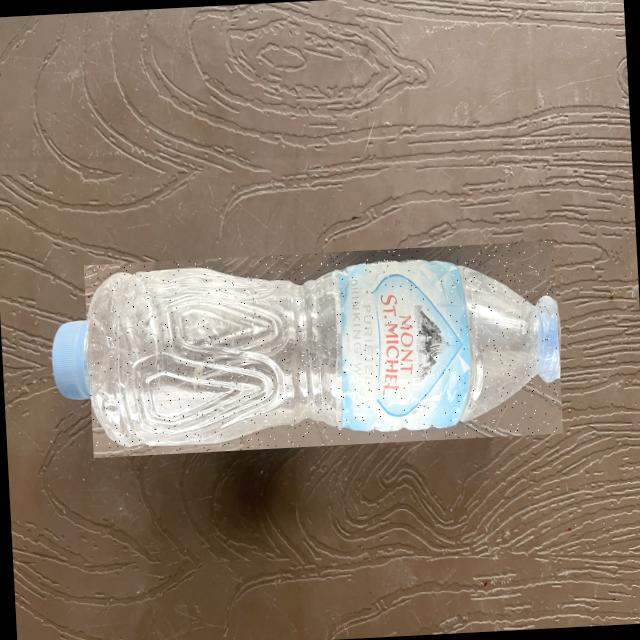REJECT: (83, 240, 562, 457)
